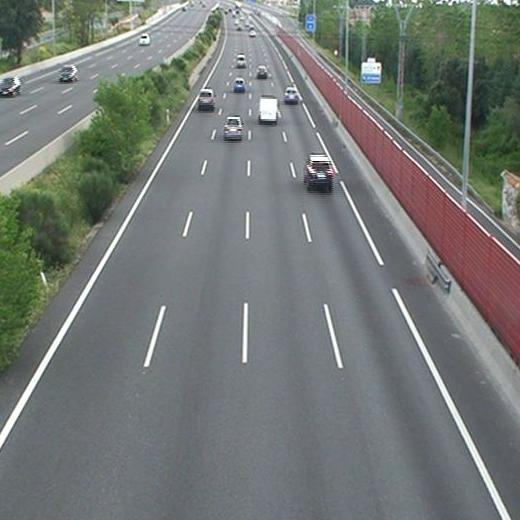car: (305, 156, 332, 183), (224, 116, 242, 137), (197, 89, 215, 106), (284, 88, 299, 102), (256, 66, 269, 77), (234, 78, 245, 91), (235, 56, 247, 67)
van: (259, 97, 277, 121)
